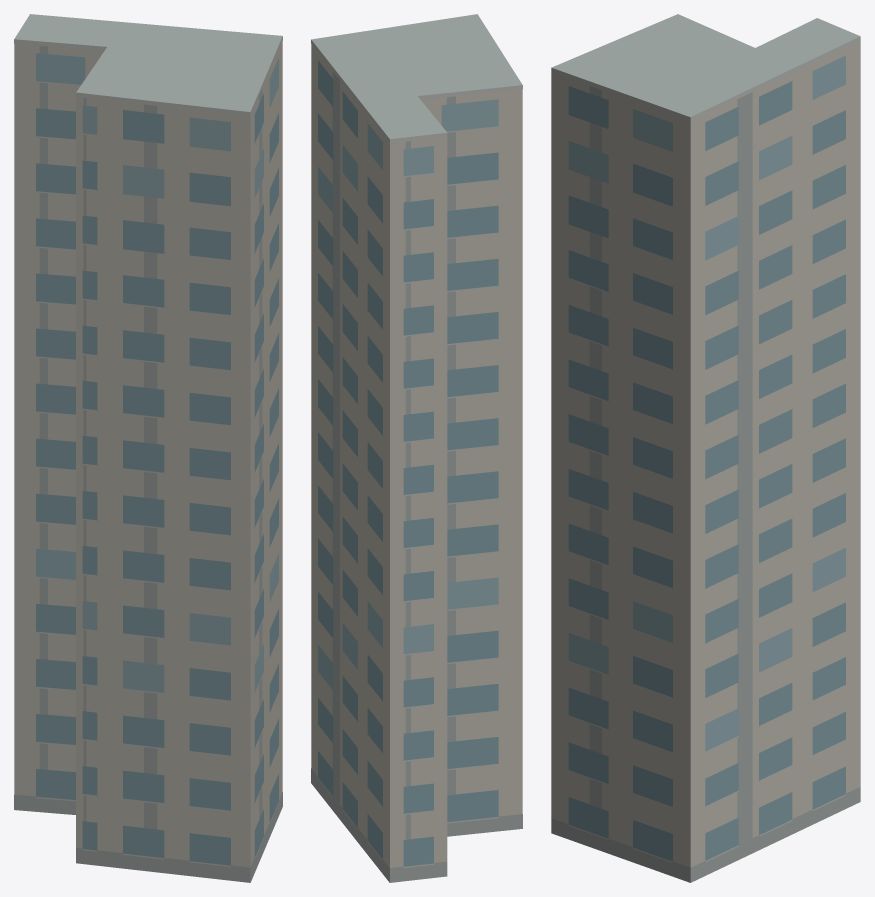
Rendered from residential-6125419a-8154-4fd4-80d0-c4512f24e2e4.glb.
The picture shows the model from 3 angles, left to right: view 1: azimuth 30°, elevation 25°; view 2: azimuth 150°, elevation 25°; view 3: azimuth 270°, elevation 25°; orthographic projection. The views are drawn at different scales.
Visible parts, largest first — view 1: residential-6125419a-8154-4fd4-80d0-c4512f24e2e4.tmp; view 2: residential-6125419a-8154-4fd4-80d0-c4512f24e2e4.tmp; view 3: residential-6125419a-8154-4fd4-80d0-c4512f24e2e4.tmp.
Boxes of the visible parts, box(x1,y1,x2,y2) form: residential-6125419a-8154-4fd4-80d0-c4512f24e2e4.tmp: box(14, 14, 282, 882); residential-6125419a-8154-4fd4-80d0-c4512f24e2e4.tmp: box(311, 14, 522, 882); residential-6125419a-8154-4fd4-80d0-c4512f24e2e4.tmp: box(551, 14, 860, 882).
Size of the model in its own units: 12.36 by 42.7 by 15.64.
